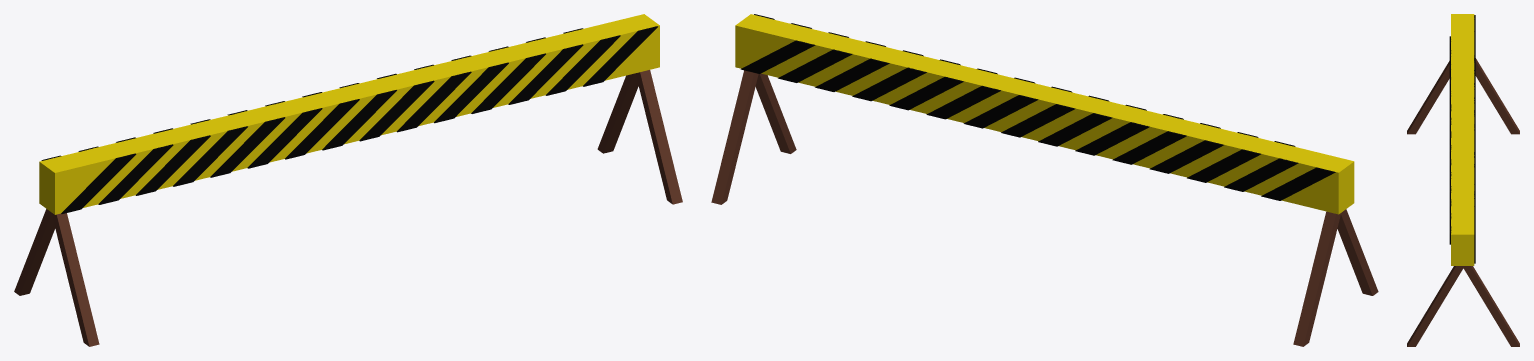
Rendered from Barior.fbx.
3 views of the same model, side by side, from view 1: azimuth 30°, elevation 25°; view 2: azimuth 150°, elevation 25°; view 3: azimuth 270°, elevation 25° (orthographic). The views are drawn at different scales.
Visible parts, largest first — view 1: Barior; view 2: Barior; view 3: Barior.
Boxes of the visible parts, left/top/right/bottom form: Barior: left=14, top=14, right=682, bottom=346; Barior: left=711, top=14, right=1378, bottom=346; Barior: left=1407, top=14, right=1519, bottom=346.
Bounding box in the file's own units: 1867 × 453 × 403.
